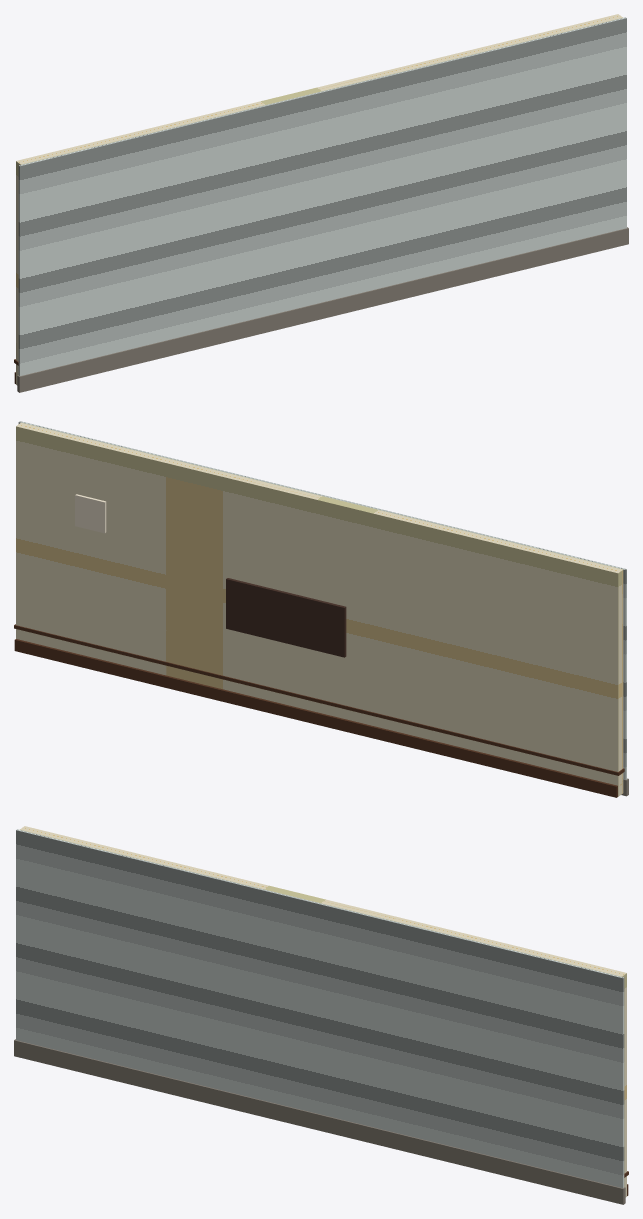
File: back.glb
The picture shows the model from 3 angles, top to bottom: view 1: azimuth 30°, elevation 25°; view 2: azimuth 150°, elevation 25°; view 3: azimuth 330°, elevation 25°; orthographic projection.
Visible parts, largest first — view 1: Box3, Box4, Box1; view 2: Box1, Box2, Box5, Box8, Box7, Box3, Box6; view 3: Box3, Box4, Box1.
Boxes of the visible parts, x1,y1,x2,y2 form: Box3: (18, 17, 626, 375); Box4: (17, 227, 628, 392); Box1: (16, 14, 622, 385); Box1: (16, 422, 623, 796); Box2: (14, 639, 617, 797); Box5: (226, 578, 346, 657); Box8: (14, 624, 624, 775); Box7: (16, 629, 623, 795); Box3: (18, 421, 626, 779); Box6: (75, 494, 106, 533); Box3: (16, 829, 624, 1187); Box4: (14, 1039, 625, 1204); Box1: (20, 826, 626, 1197).
Bounding box in the file's own units: 10.27 × 3.64 × 0.27.
Materials: 6 (2 with a texture image).
